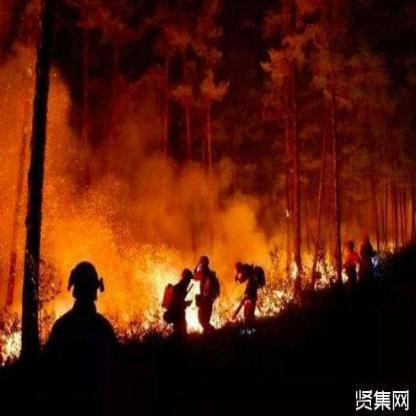fire: (137, 248, 229, 340), (258, 243, 346, 314), (6, 324, 61, 362)
smoke: (6, 60, 268, 307)
